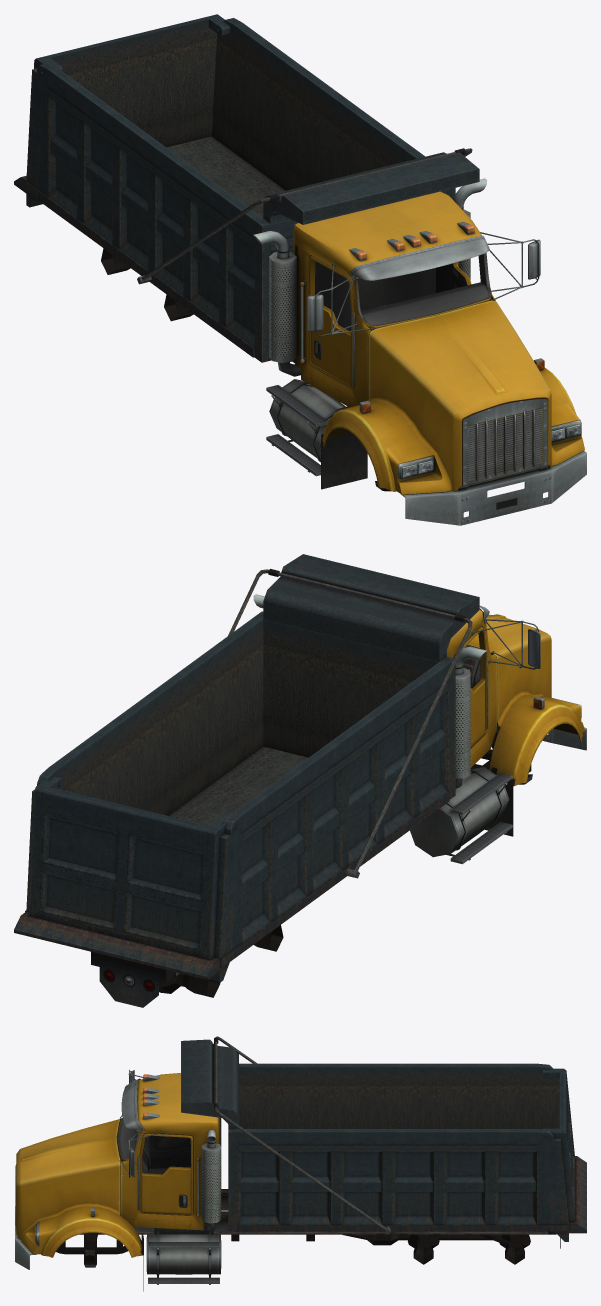
File: T800 Body.fbx
3 renders of one model, top to bottom at view 1: azimuth 30°, elevation 25°; view 2: azimuth 150°, elevation 25°; view 3: azimuth 270°, elevation 25°, orthographic. The views are drawn at different scales.
Parts seen in each view (by area): view 1: T800 Body; view 2: T800 Body; view 3: T800 Body.
Part boxes in pixels (x1,y1,x2,y2): T800 Body: [14, 14, 586, 525]; T800 Body: [14, 554, 586, 1007]; T800 Body: [15, 1036, 586, 1291].
Bounding box in the file's own units: 309 × 328 × 910.
